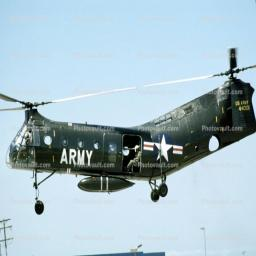helicopter: (4, 50, 255, 206)
